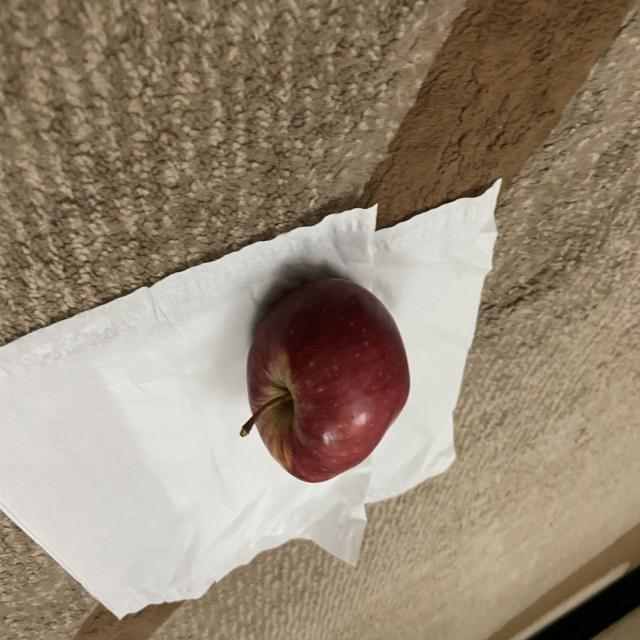apple: (233, 268, 410, 490)
